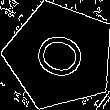O_E: (27, 26, 92, 86)
